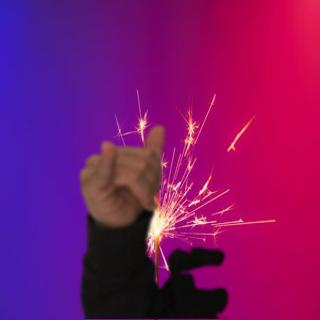HAVE: (75, 118, 175, 234)
